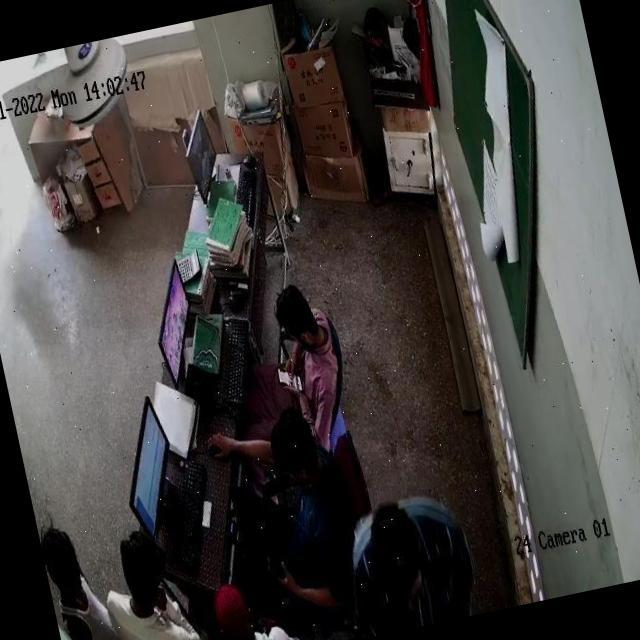person: (221, 404, 361, 626), (346, 487, 484, 636), (227, 270, 351, 424), (36, 510, 137, 640), (96, 522, 207, 640), (203, 572, 296, 640)
